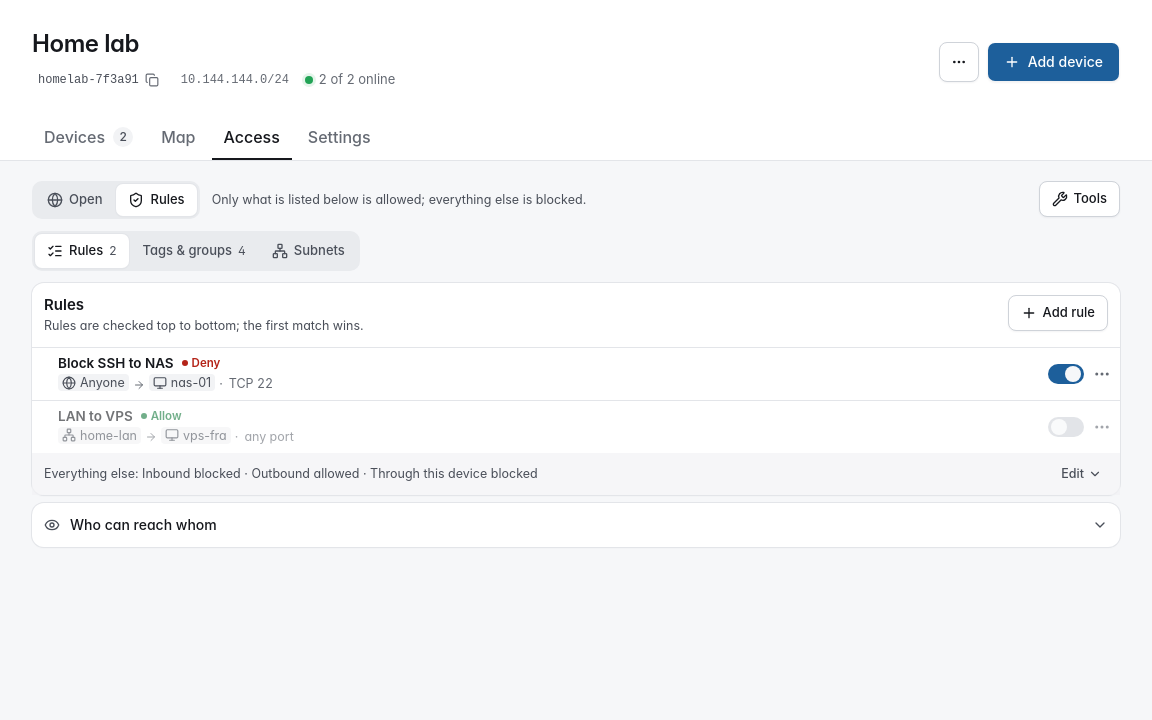
it: NetworkAccessPage › shows the policy mode separately from the JSON editing view
This screenshot has width=1152, height=720.
Expected: the text "Block SSH to NAS" is shown, [58,354,174,372]
Expected: the text "Rules are checked top to bottom; the first match wins." is shown, [44,318,364,333]
Click the button "Tools" at (1079, 199), box [1038,181,1120,217]
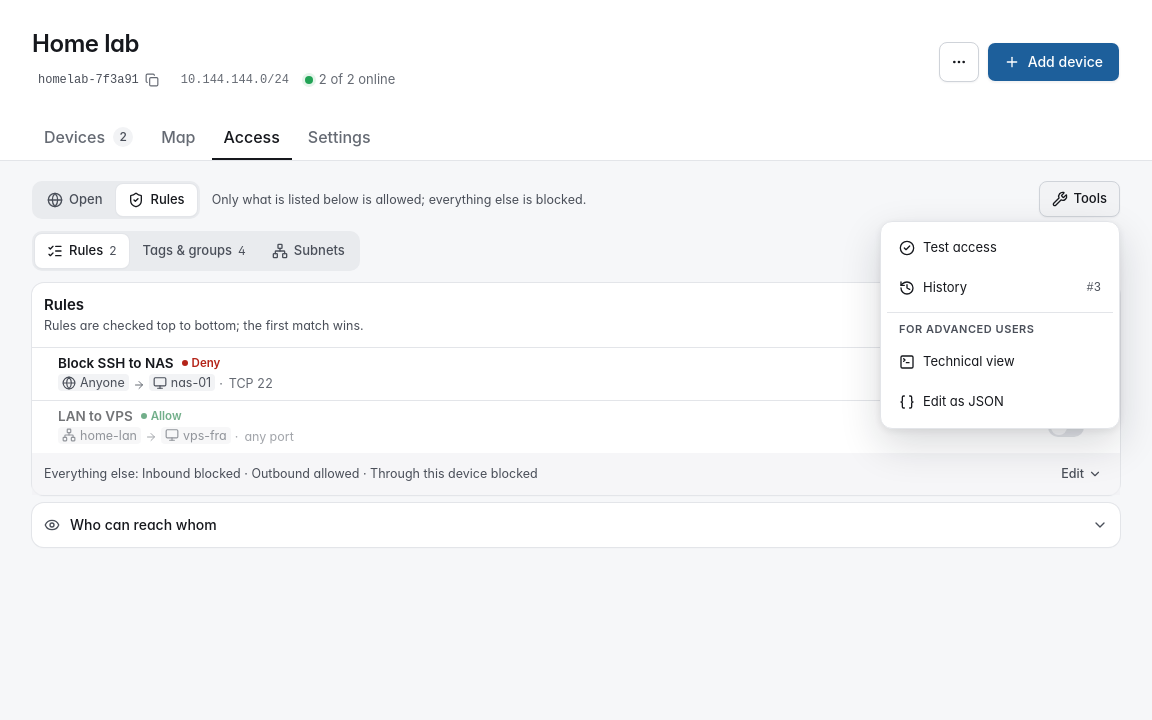
Click the menu item "Edit as JSON" at (951, 401), box [899,393,1004,410]
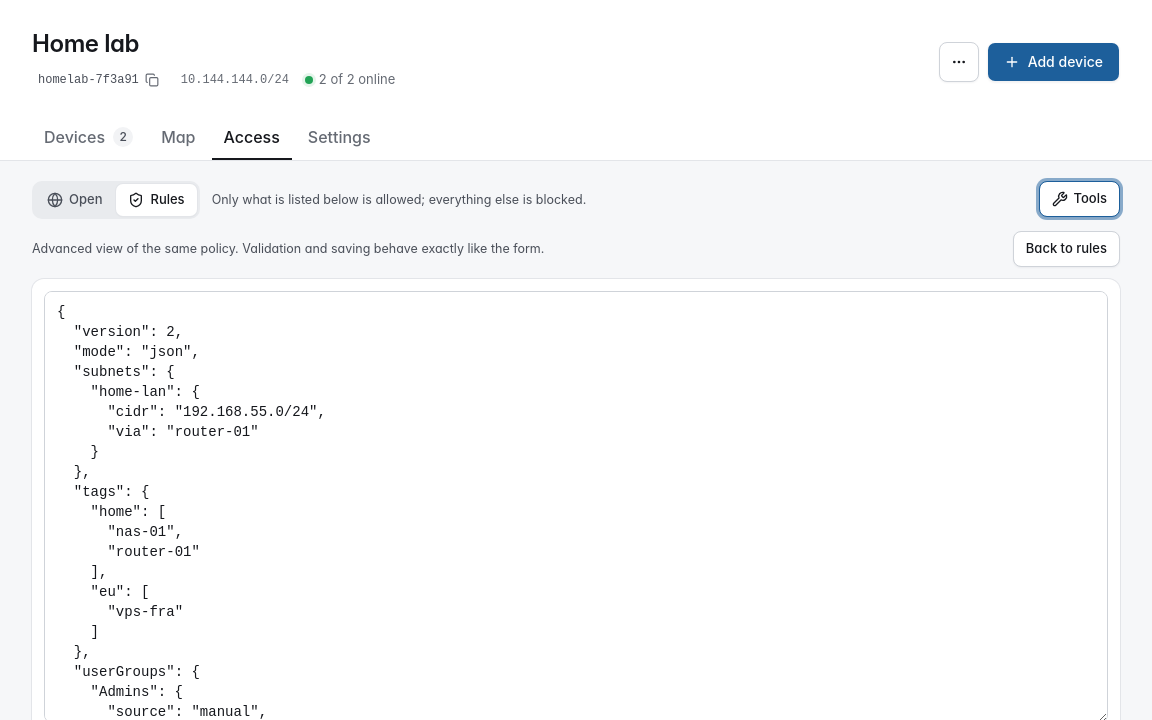
Click the button "Back to rules" at (1066, 249), box [1013,231,1120,267]
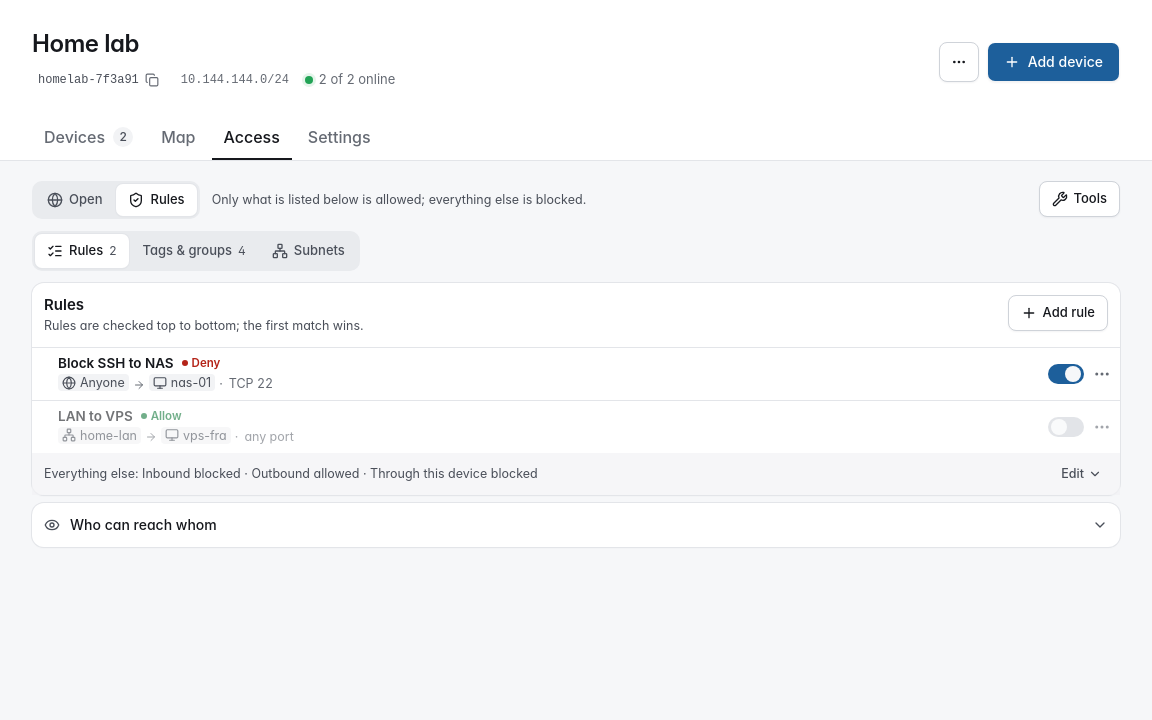
Expected: the element with test id "rules-card" is shown, [32,283,1120,546]
